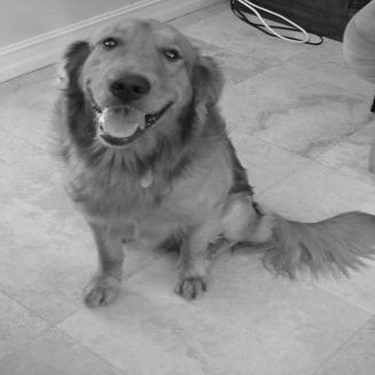dog: (28, 2, 373, 312)
